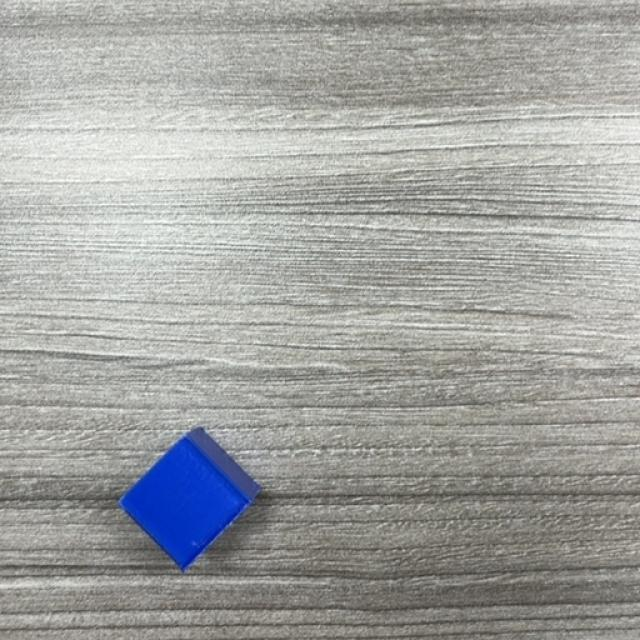Azul: (119, 428, 262, 571)
